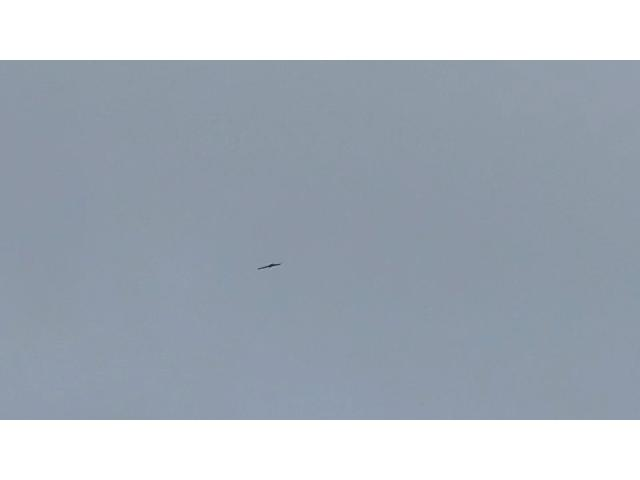Anti-Drone: (256, 262, 284, 271)
